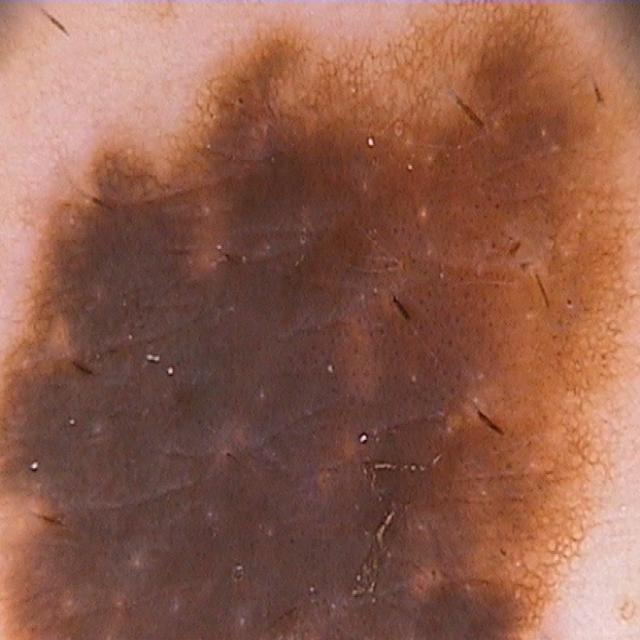Melanoma: (30, 71, 504, 640)
